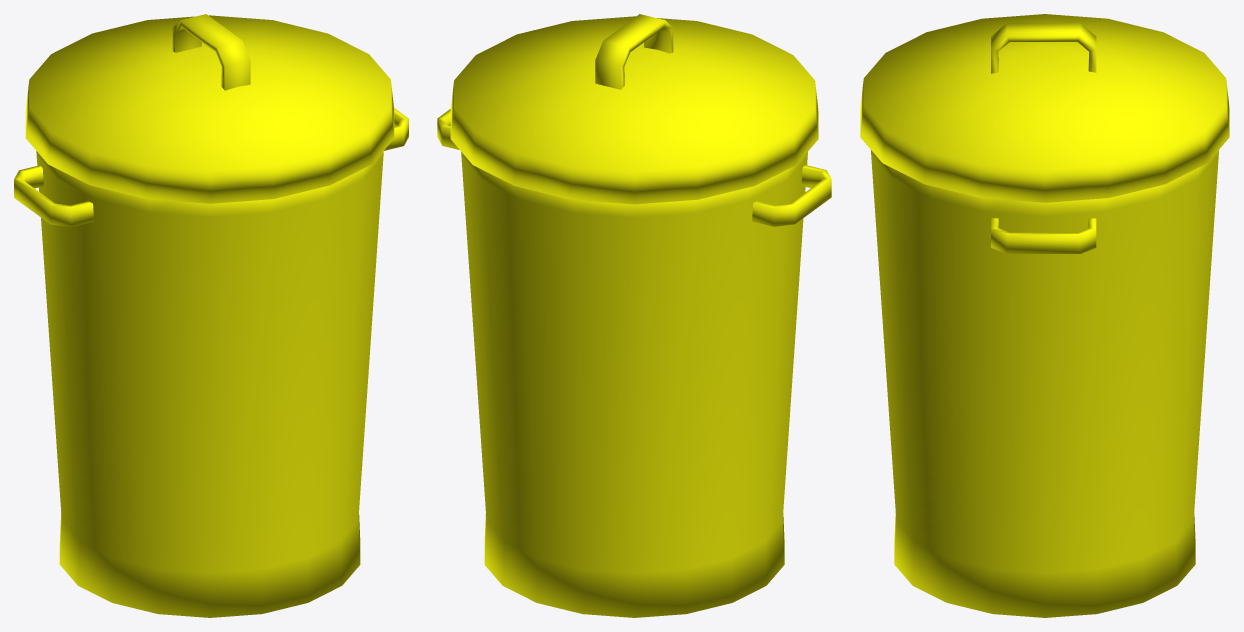
Rendered from Bin01.glb.
3 renders of one model, left to right at view 1: azimuth 30°, elevation 25°; view 2: azimuth 150°, elevation 25°; view 3: azimuth 270°, elevation 25°, orthographic.
Visible parts, largest first — view 1: Bin01; view 2: Bin01; view 3: Bin01.
Boxes of the visible parts, bbox=[...] form: Bin01: bbox=[14, 14, 408, 617]; Bin01: bbox=[437, 14, 831, 617]; Bin01: bbox=[860, 14, 1229, 617].
Size of the model in its own units: 1.22 by 1.7 by 1.09.
Materials: 1 (1 with a texture image).
